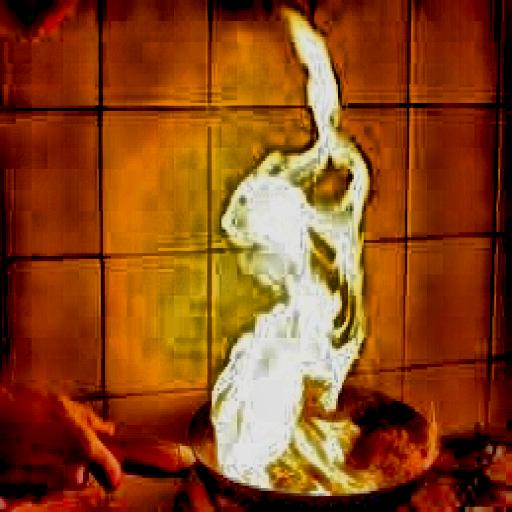fire: (208, 16, 398, 504)
